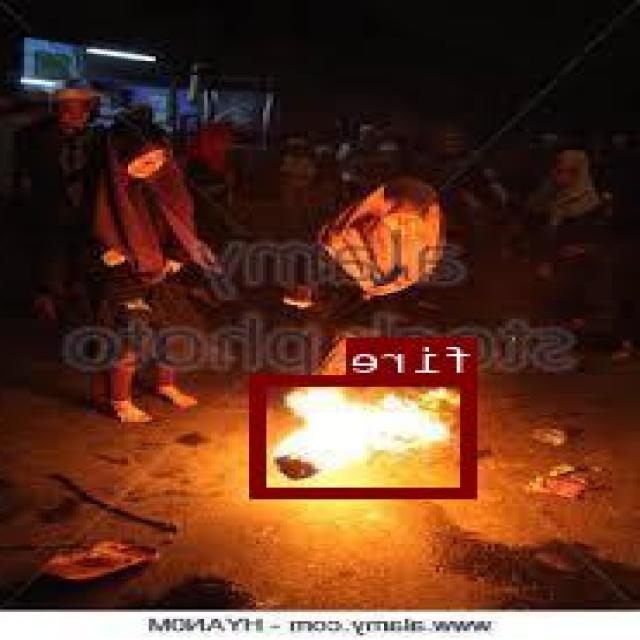fire: (255, 373, 480, 496)
